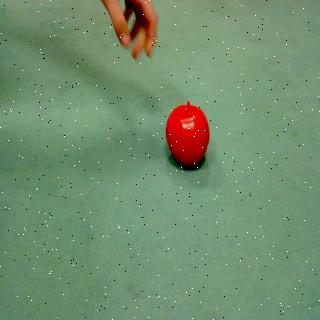apple: (160, 96, 219, 174)
